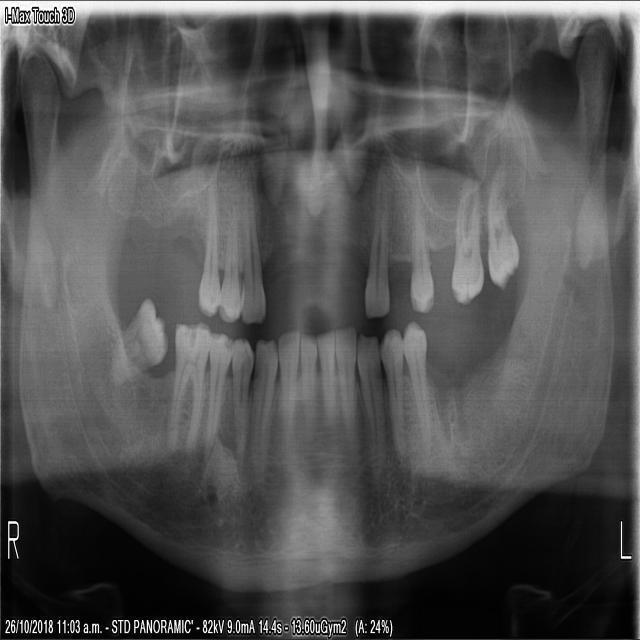LCD: (351, 329, 383, 473)
LID: (332, 320, 354, 457), (313, 326, 334, 435)
LMU: (445, 169, 484, 309), (484, 156, 519, 289)
LPMD: (397, 314, 430, 463), (377, 323, 402, 468)
LPMU: (361, 166, 390, 323), (407, 188, 435, 316)
RCD: (247, 331, 277, 481)
RID: (274, 324, 297, 463), (295, 329, 317, 457)
RMD: (162, 314, 210, 449), (107, 289, 167, 382)
RPMD: (200, 325, 234, 454), (229, 332, 252, 471)
RPMU: (214, 162, 242, 324), (236, 168, 264, 325), (195, 166, 219, 314)
